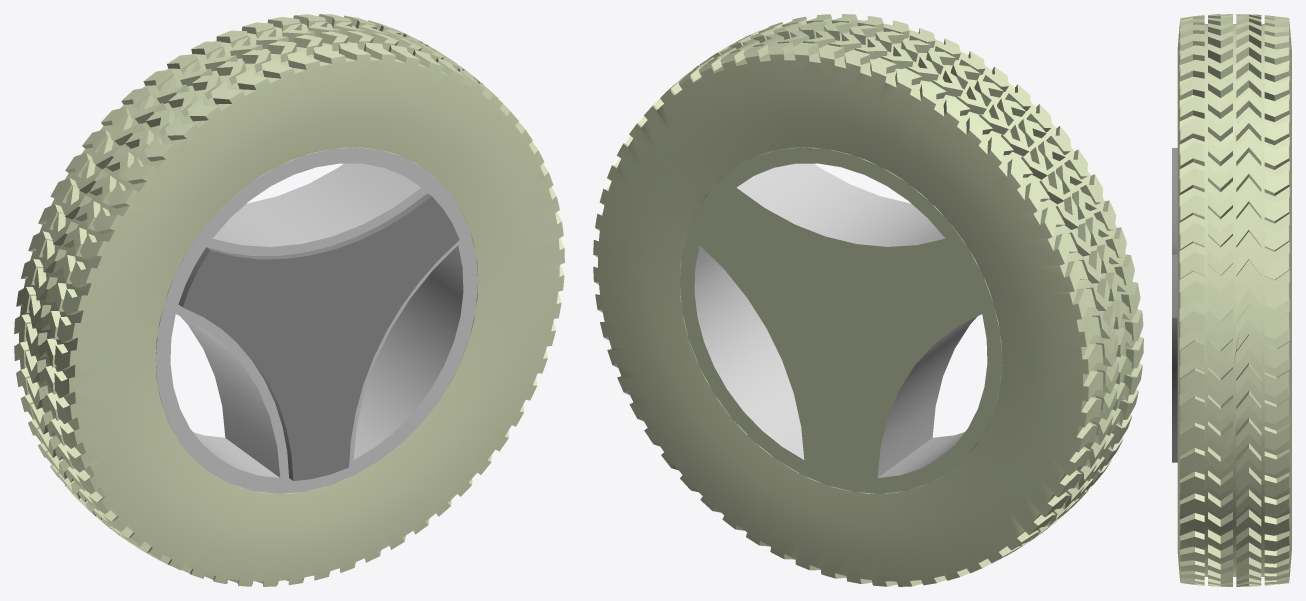
Rendered from wheel_link.dae.
3 renders of one model, left to right at view 1: azimuth 30°, elevation 25°; view 2: azimuth 150°, elevation 25°; view 3: azimuth 270°, elevation 25°, orthographic.
Visible parts, largest first — view 1: node; view 2: node; view 3: node.
Part boxes in pixels (left/top/right/bottom): node: left=14, top=14, right=564, bottom=586; node: left=593, top=14, right=1143, bottom=586; node: left=1172, top=14, right=1291, bottom=586.
Size of the model in its own units: 0.3429 by 0.0717 by 0.3429.
